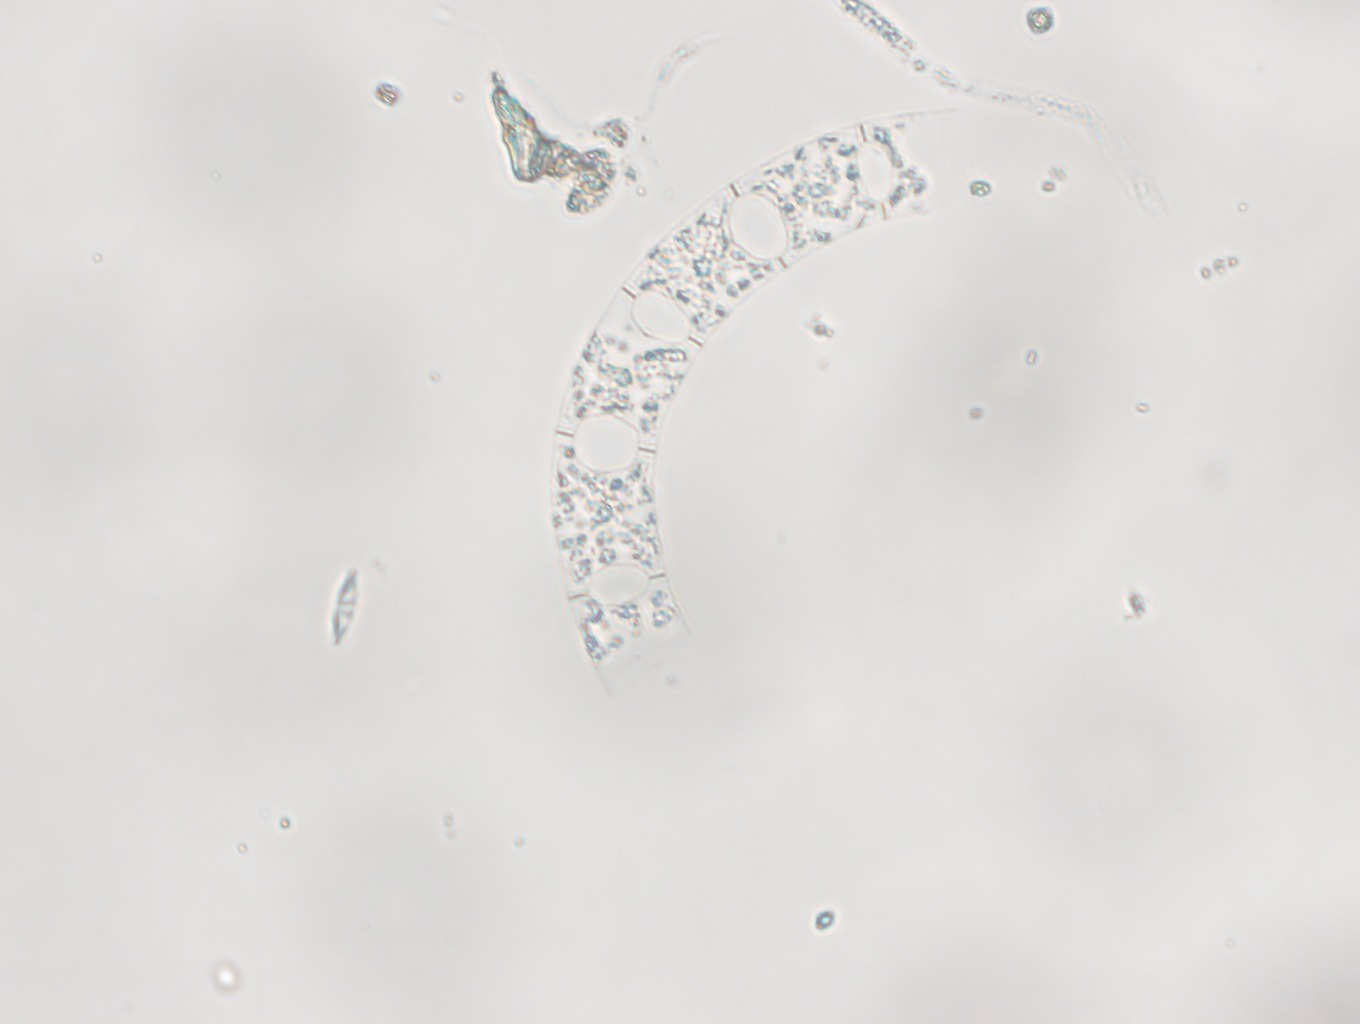eucampia: (547, 106, 963, 697)
